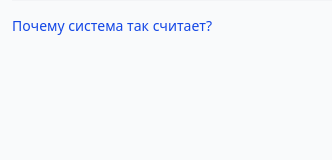
Test: WhyExplanation › показывает источники из status_explanation (R71/R92)
Click the button "Почему система так считает?": click(112, 26) left=12, top=16, right=212, bottom=36
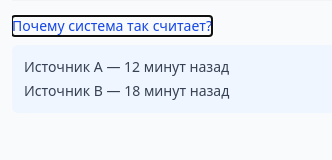
Now the list item "Источник A — 12 минут назад" is shown, box left=24, top=57, right=229, bottom=76
Now the list item "Источник B — 18 минут назад" is shown, box left=24, top=81, right=229, bottom=100
